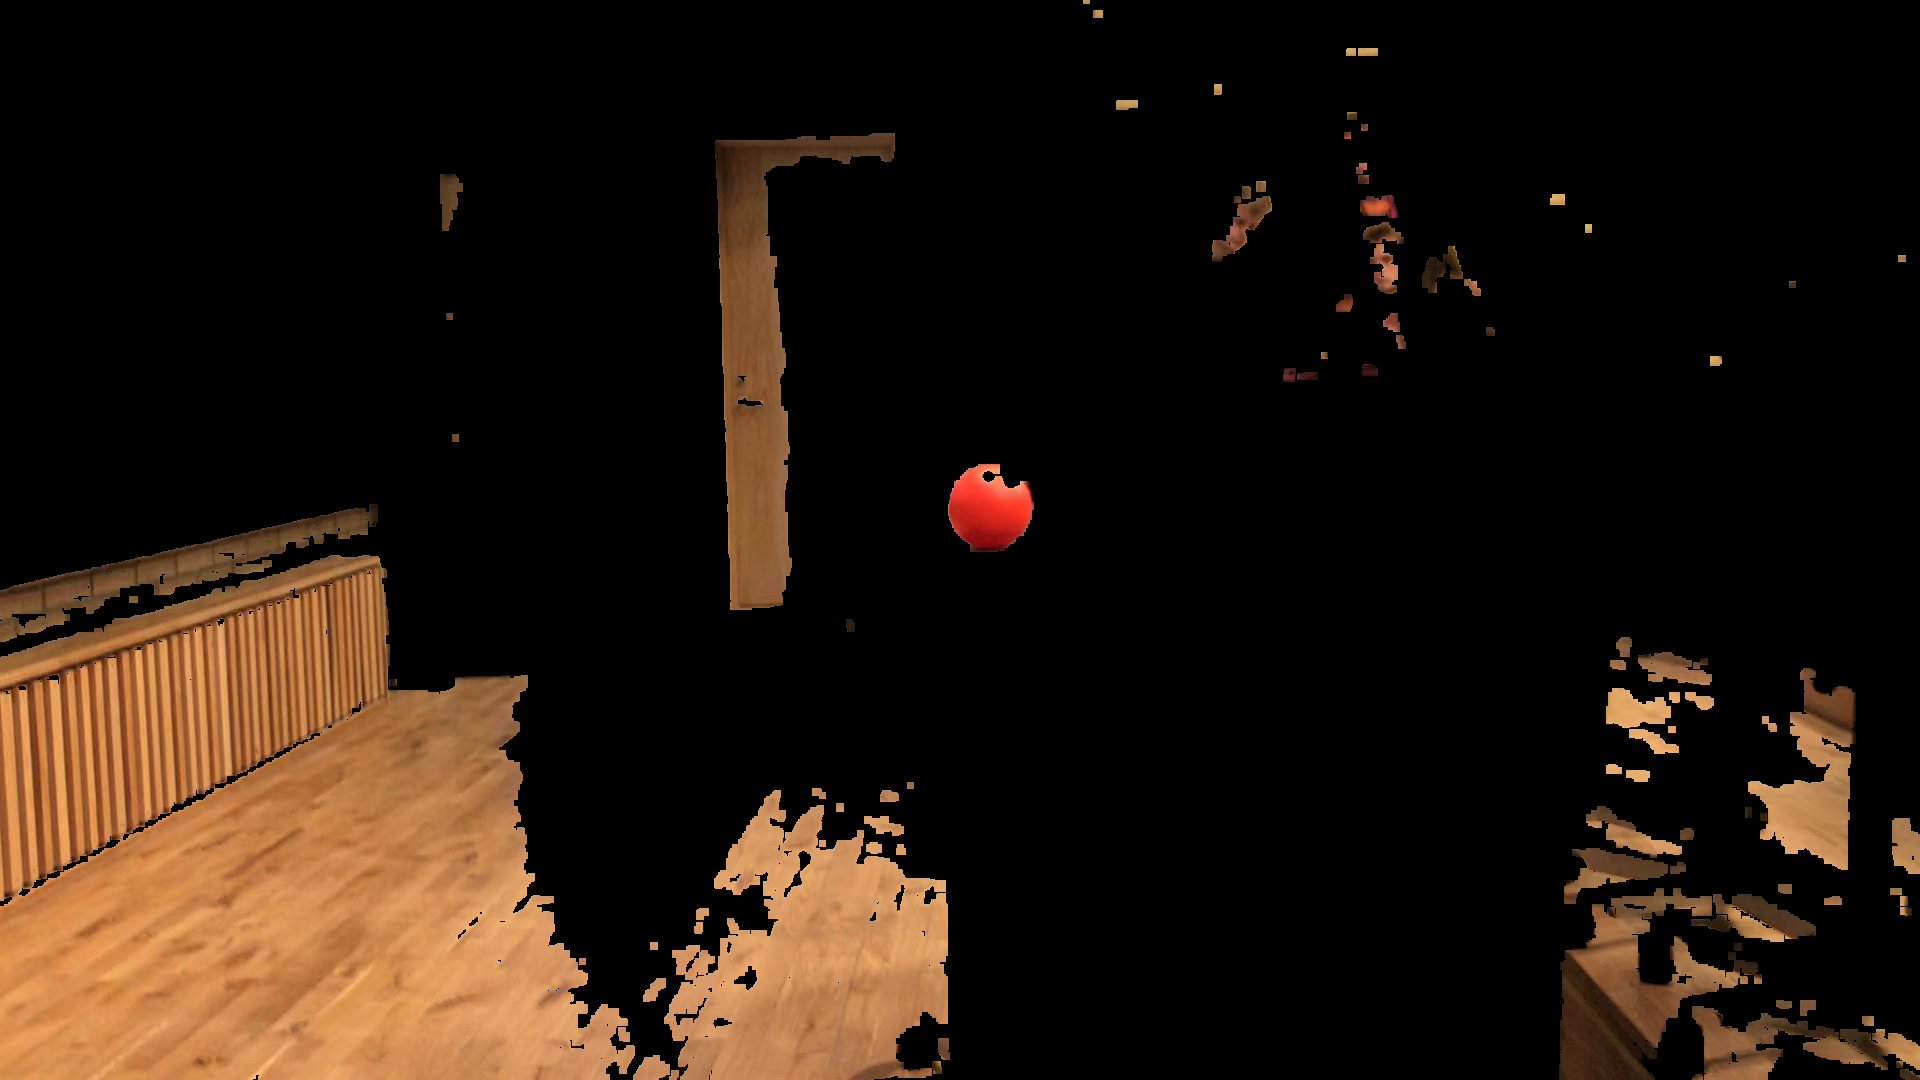Ball: (949, 462, 1046, 553)
